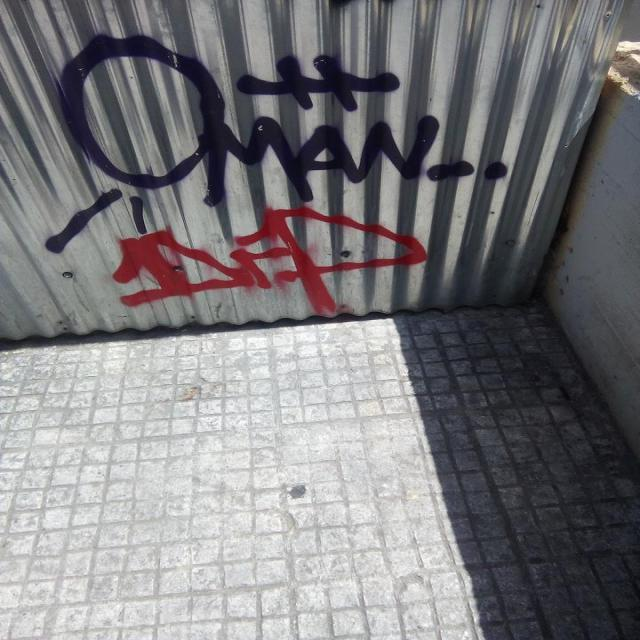nonspitting: (42, 32, 510, 254), (112, 206, 428, 314)
